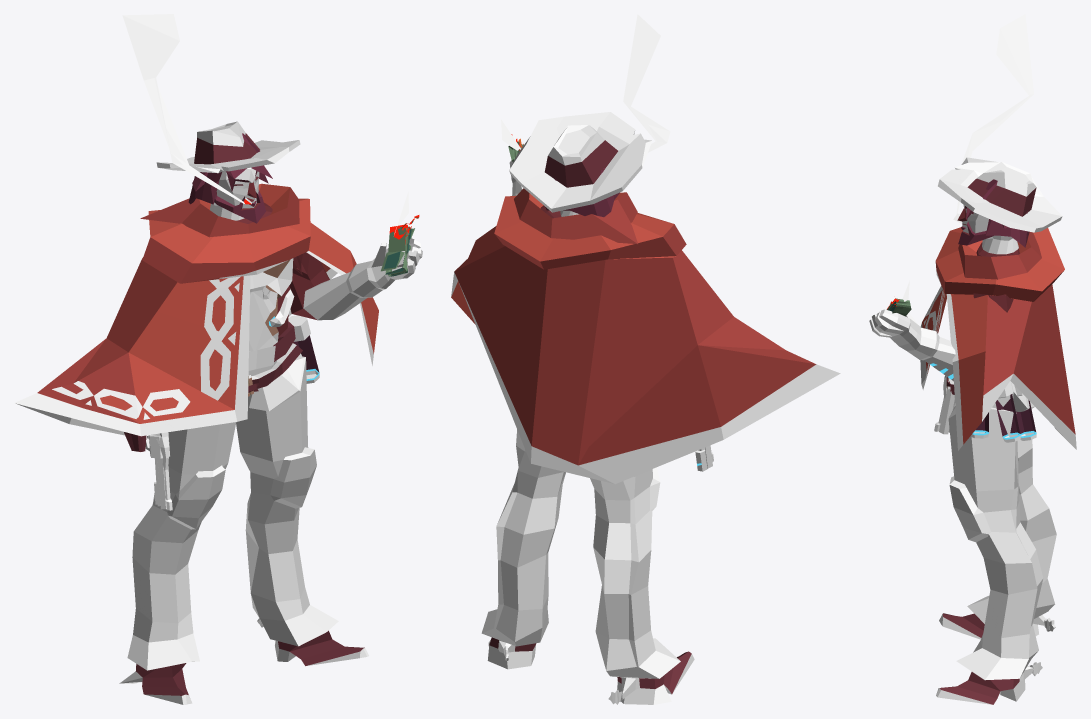
File: personaggio.gltf
3 views of the same model, side by side, from view 1: azimuth 30°, elevation 25°; view 2: azimuth 150°, elevation 25°; view 3: azimuth 270°, elevation 25° (orthographic). The views are drawn at different scales.
Parts seen in each view (by area): view 1: mccree; view 2: mccree; view 3: mccree.
Boxes of the visible parts, x1,y1,x2,y2 form: mccree: (14,14,422,704); mccree: (451,14,840,704); mccree: (869,14,1076,704).
Size of the model in its own units: 1.73 by 2.95 by 0.9047.
